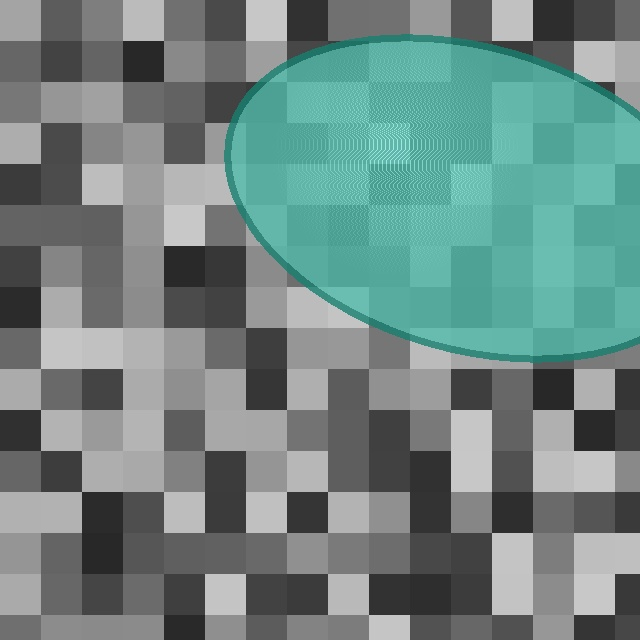lens: (228, 38, 640, 358)
